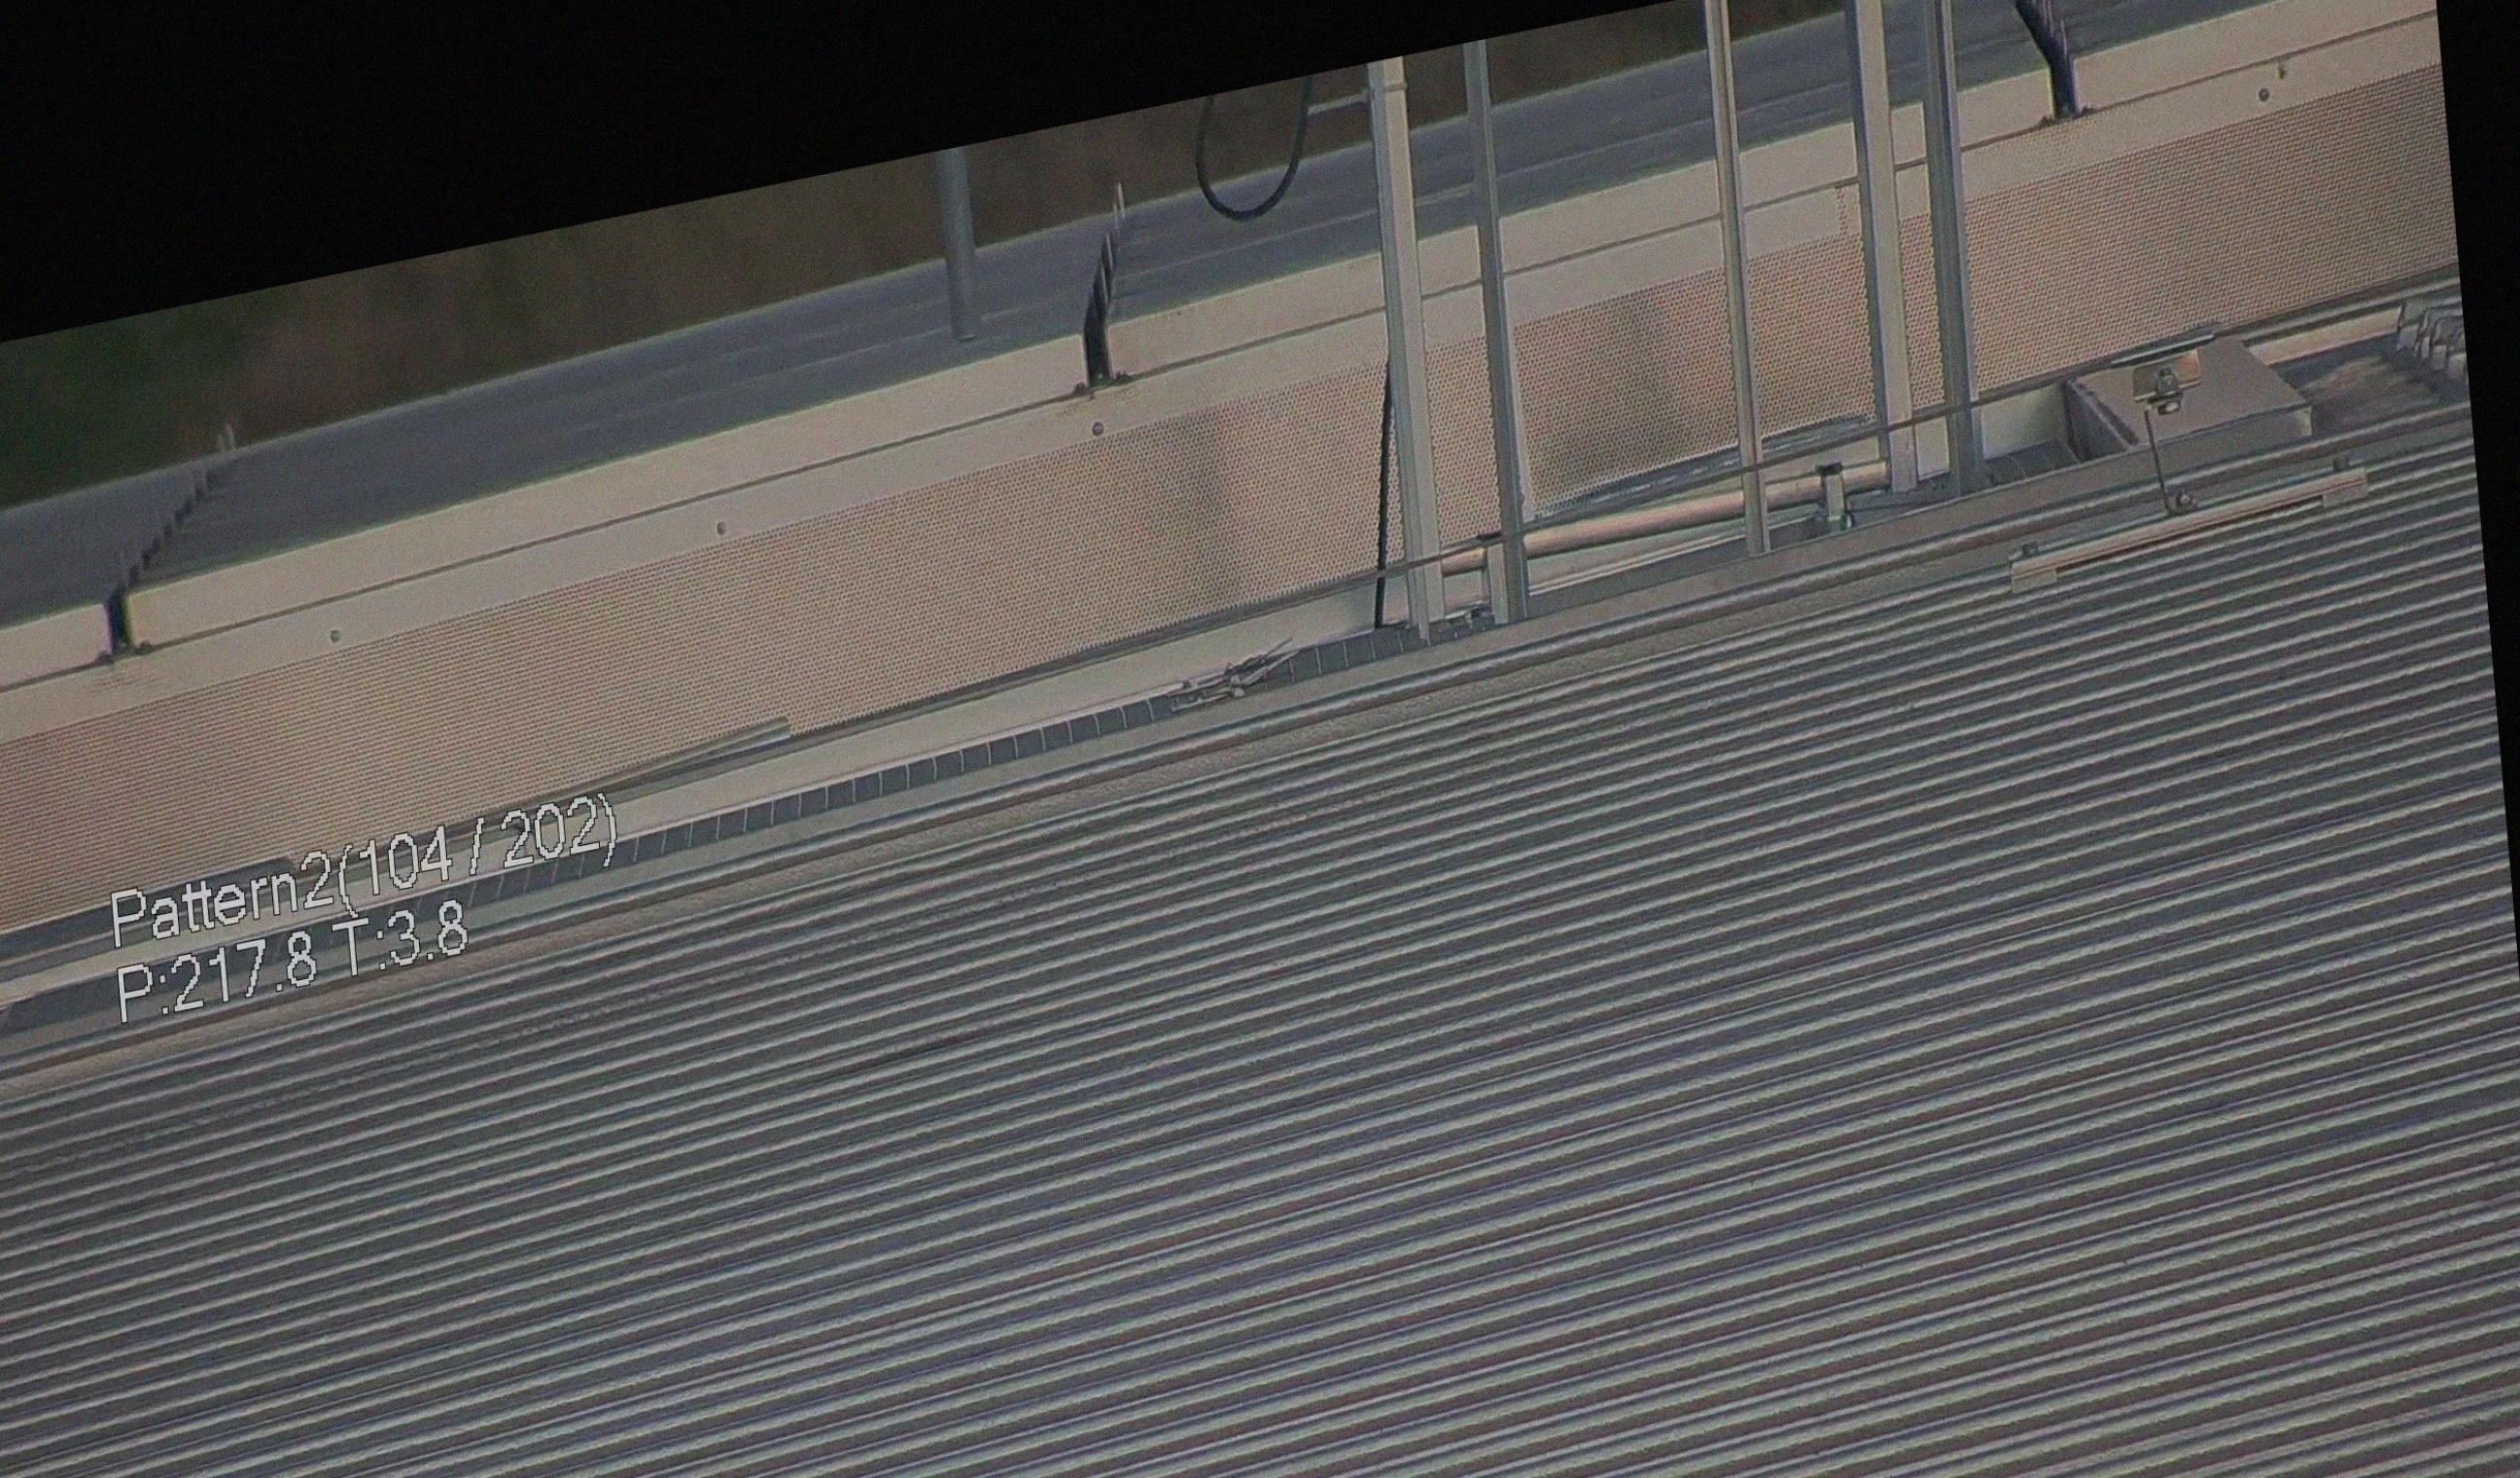Other: (1999, 0, 2105, 141)
